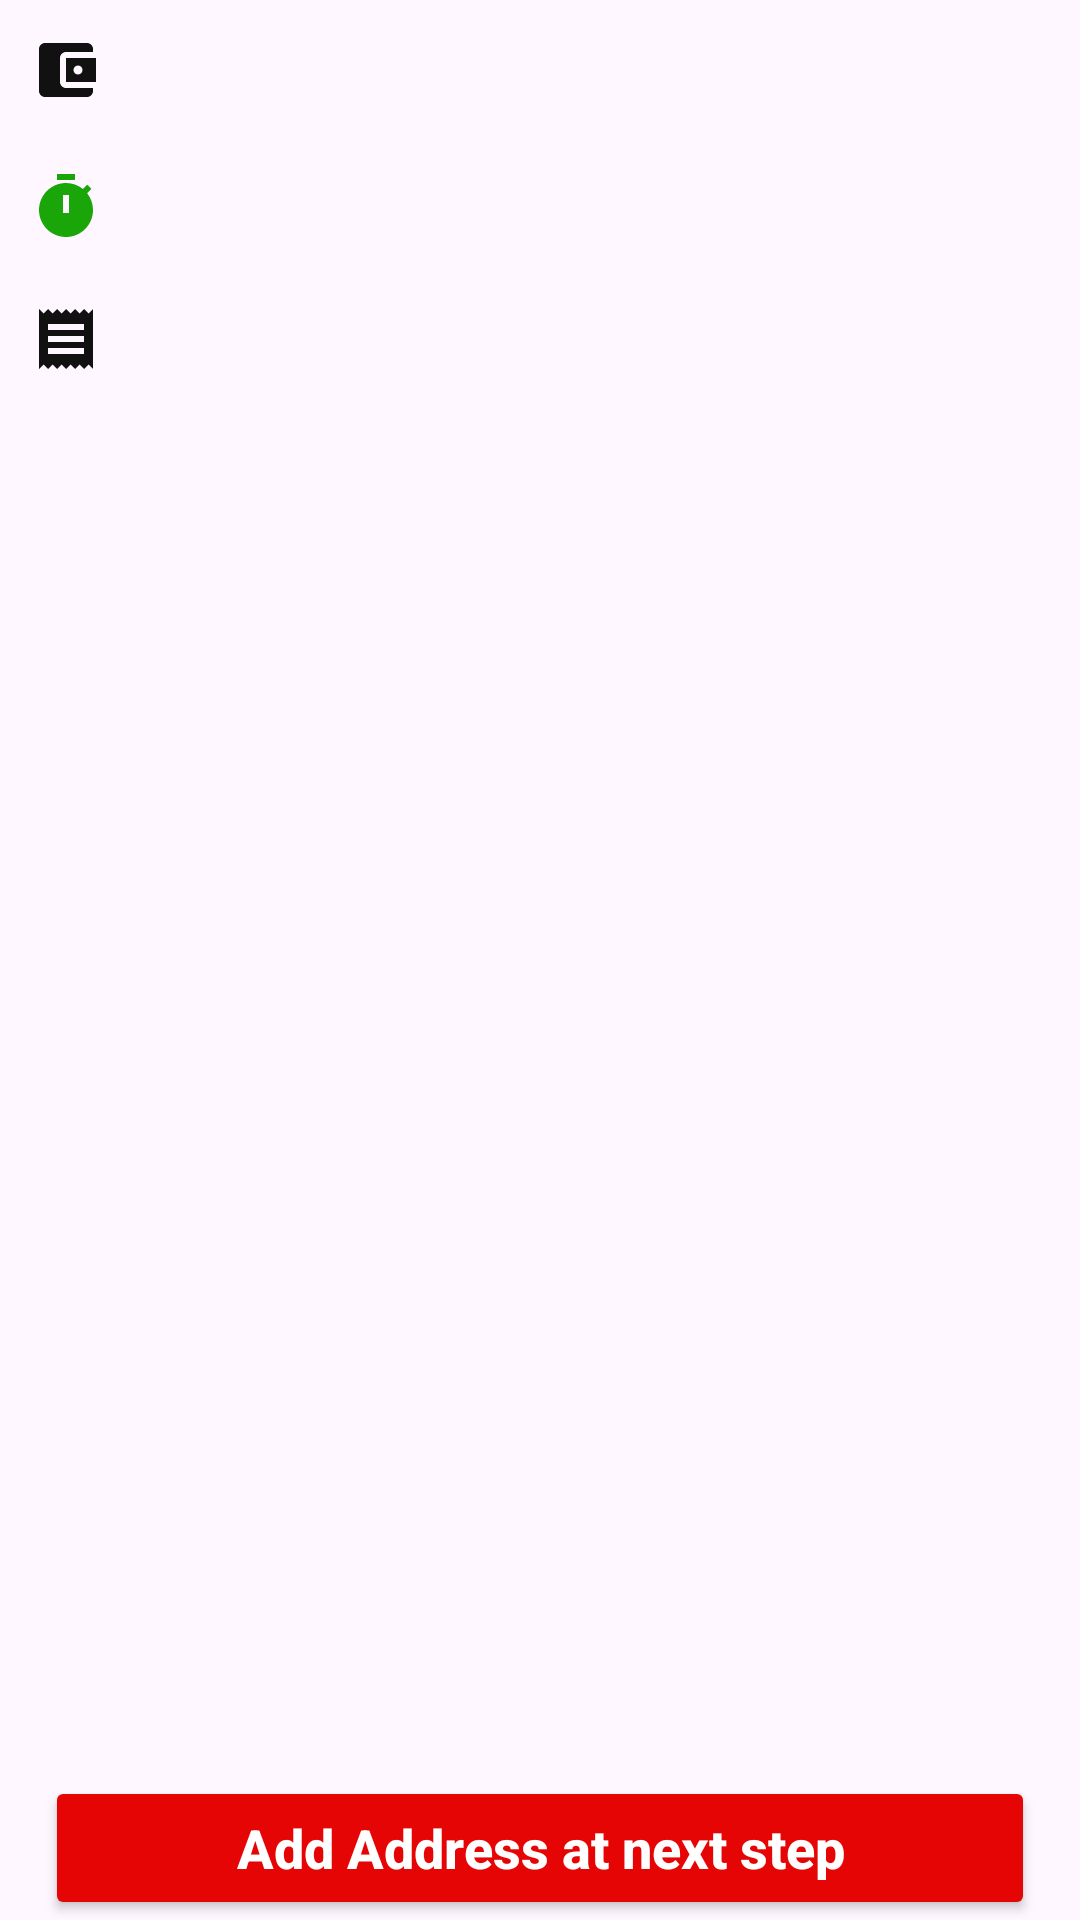

Icon click points for this 1080x1920 phone screenshot, format [x,y]:
timer: [66,205]
